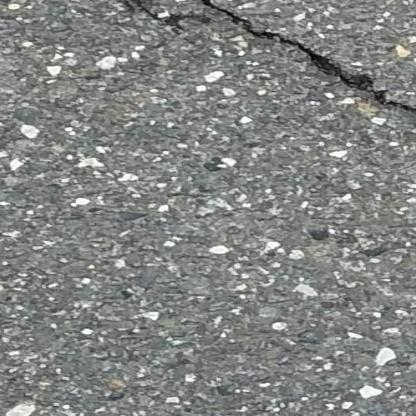Cracks: (103, 0, 416, 120)
